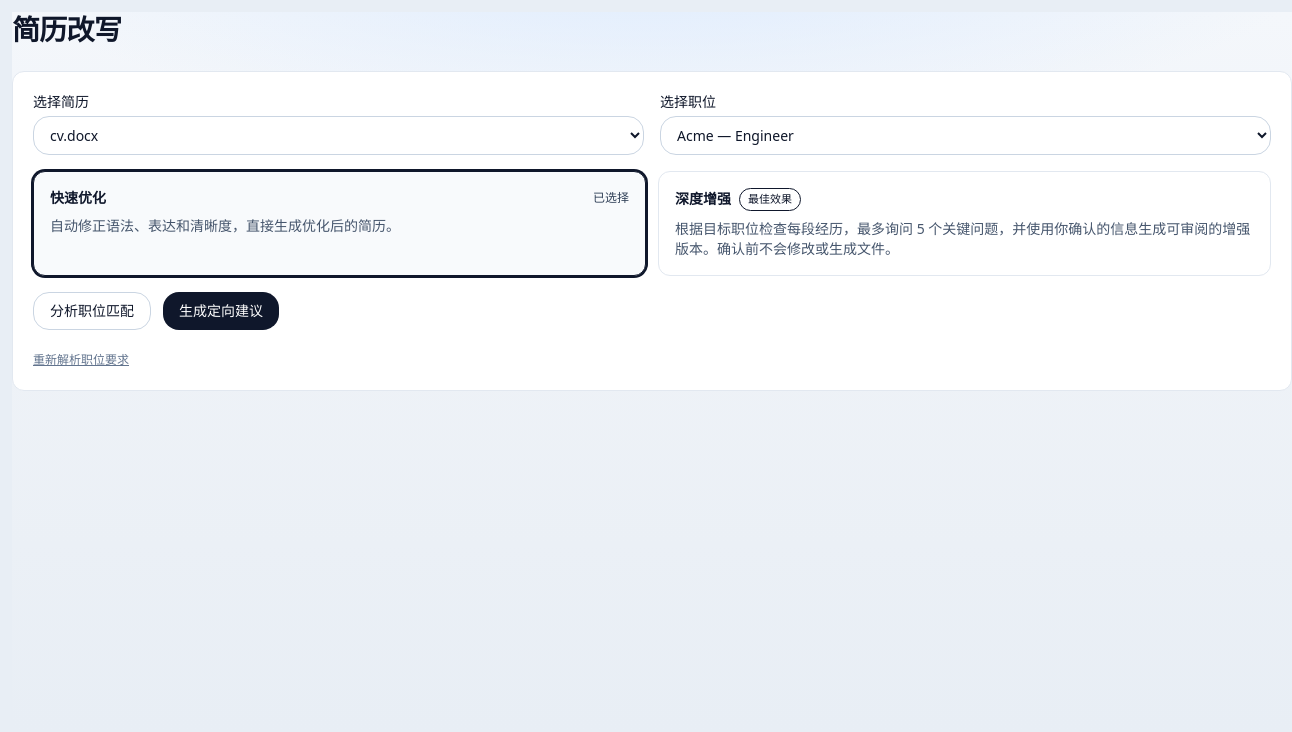
Test: TailorPage product modes › sends Quick Optimize through tailorResume and not the proposal path
Click the button "生成定向建议". click: click(221, 310)
box: [163,292,279,330]
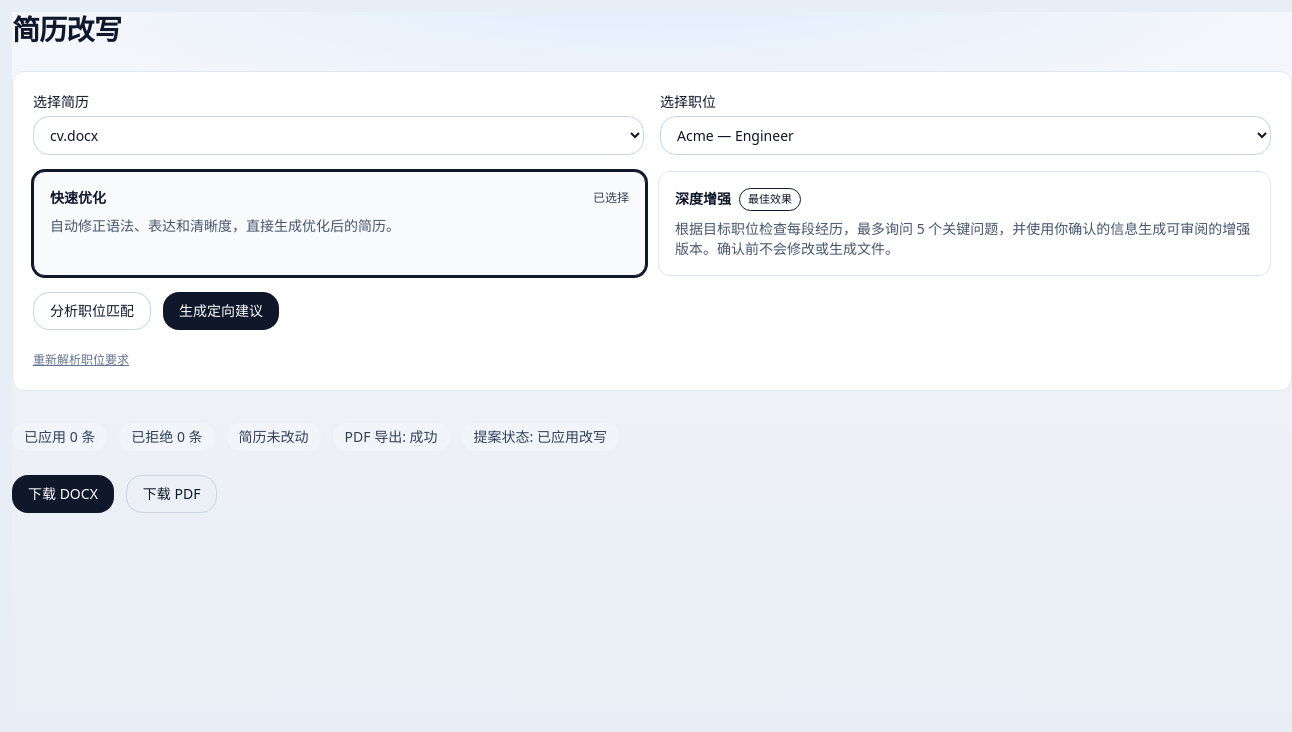
Expected: the button "下载 DOCX" is shown, [12,474,114,512]
